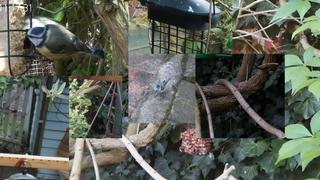blue tit: (24, 24, 104, 60), (154, 78, 171, 101)
